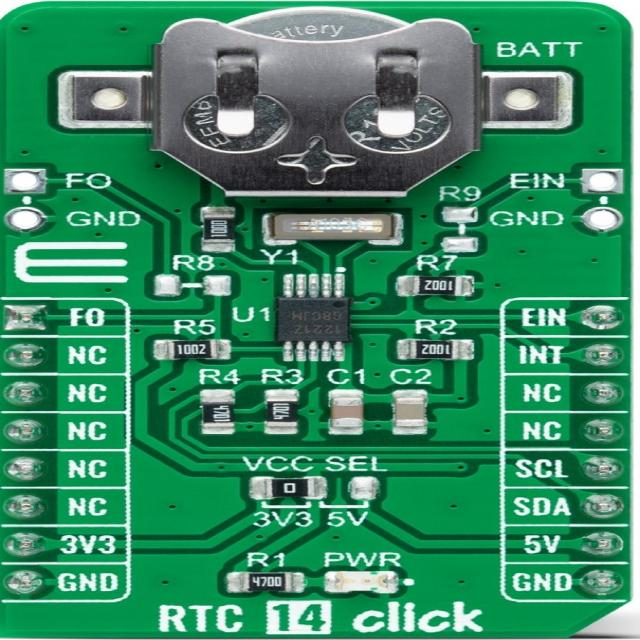IC: (267, 286, 356, 358)
LED: (326, 570, 414, 599)
battery: (76, 1, 558, 198)
capacitor 1V5: (334, 389, 366, 441), (392, 394, 432, 430)
clock Q1: (267, 216, 395, 247)
resistor IR1: (163, 336, 230, 358), (199, 393, 233, 433), (261, 394, 297, 431), (402, 337, 462, 359), (405, 276, 458, 300), (203, 212, 233, 252), (259, 480, 314, 499), (233, 570, 291, 587)
